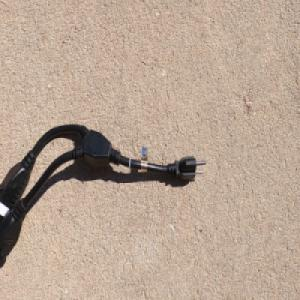Wire: (0, 123, 207, 269)
